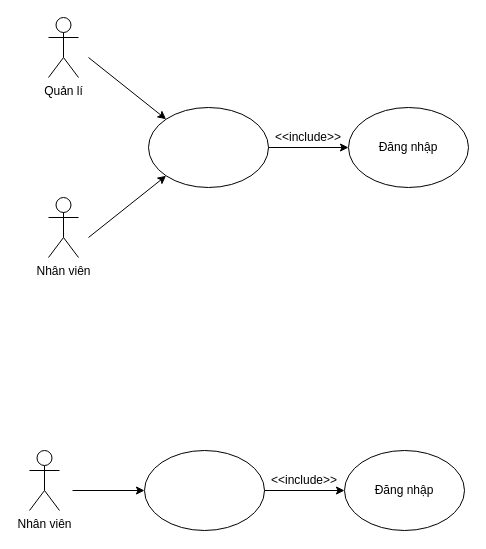
The diagram is 486 pixels wide and 549 high, and some of its shapes have lost their labels. Each missing label, with the centre of its shape:
Quản lí kho: pixel 204 490
Tìm kiếm: pixel 208 147
